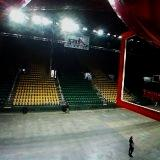Orange_Square_GShape: (115, 15, 160, 121)
